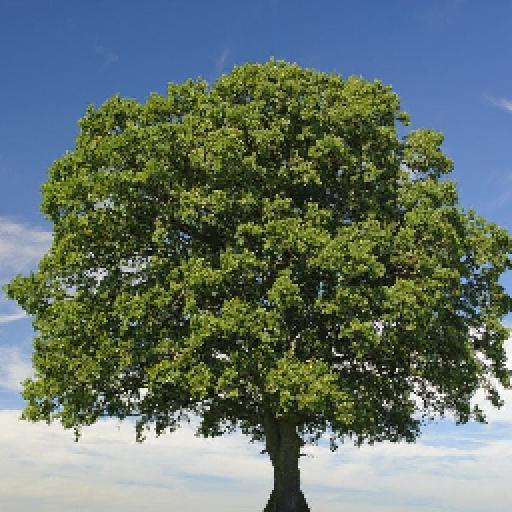trees: (6, 58, 510, 510)
